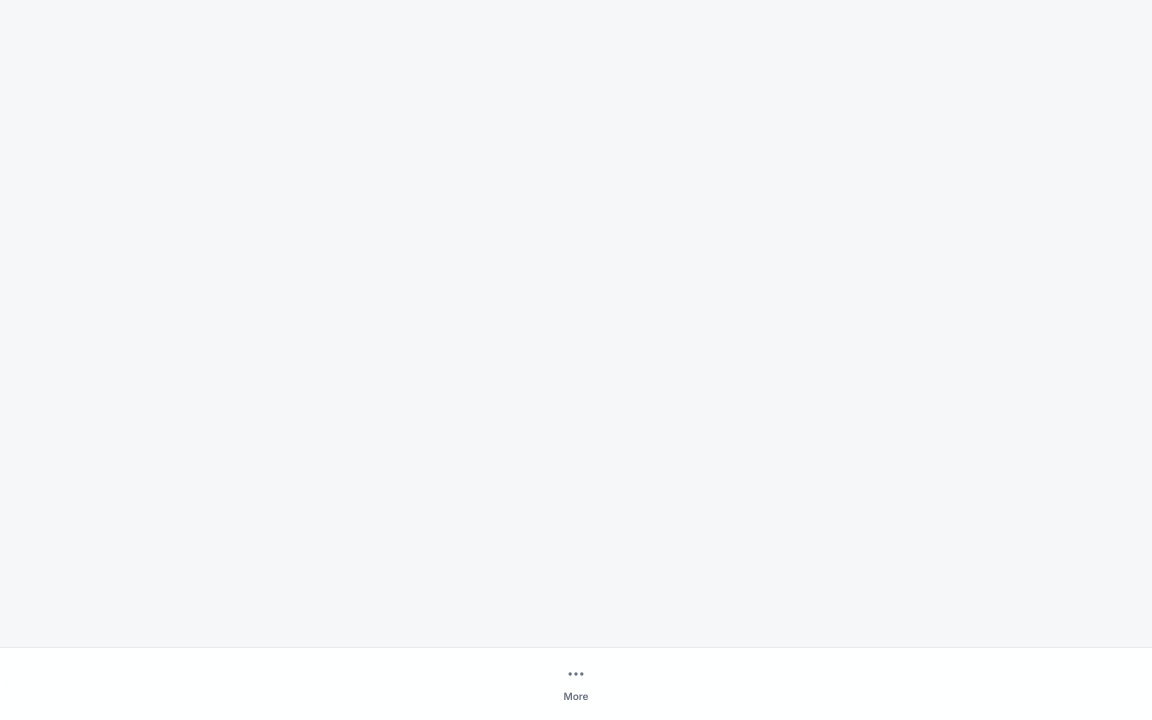
Test: BottomNav — More sheet interaction contents › recruiter explicit null: More sheet has ONLY Sign Out — no Recruiter Command Center
Step 1. Click the button labelled "More" → (576, 684), box [544,656,608,712]
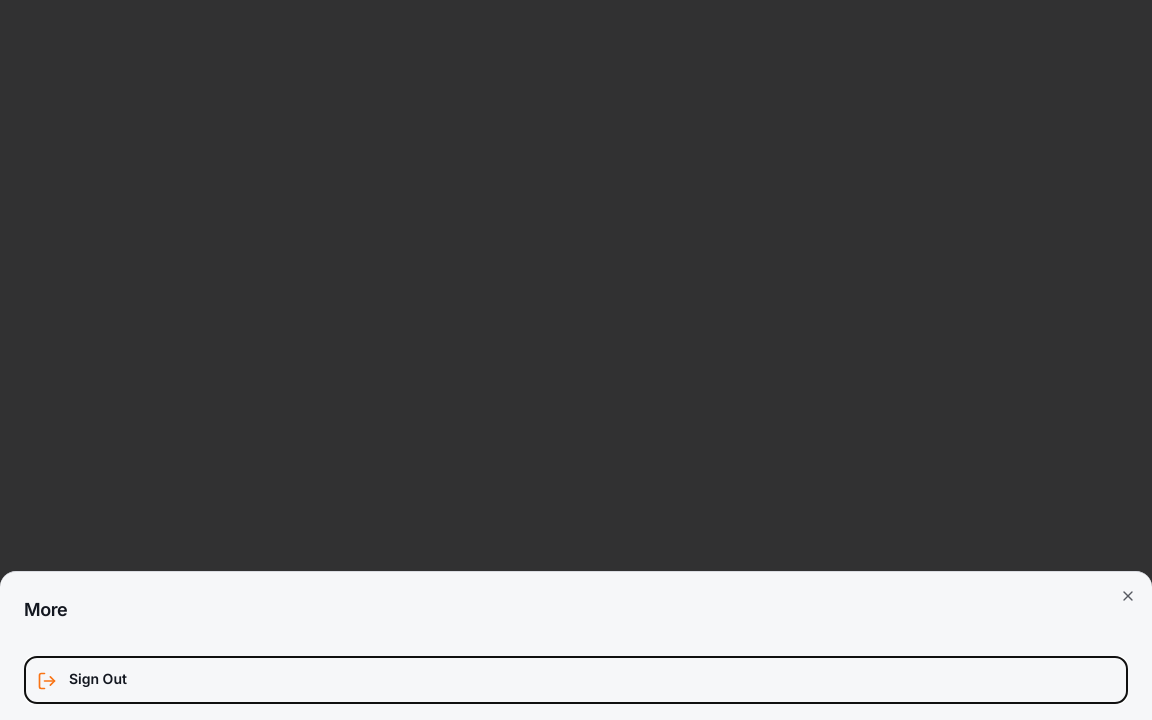
Now the text "Sign Out" is shown, box [69,669,127,689]
